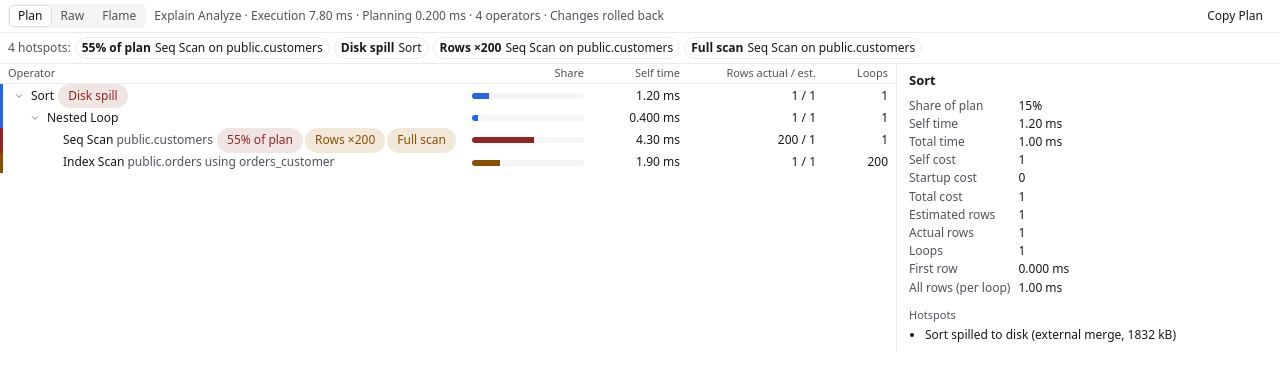
Scenario: collapses an operator with its twisty
Click the button named "Collapse" next to "Nested Loop". click: (35, 118)
box: x1=27 y1=110 x2=43 y2=126
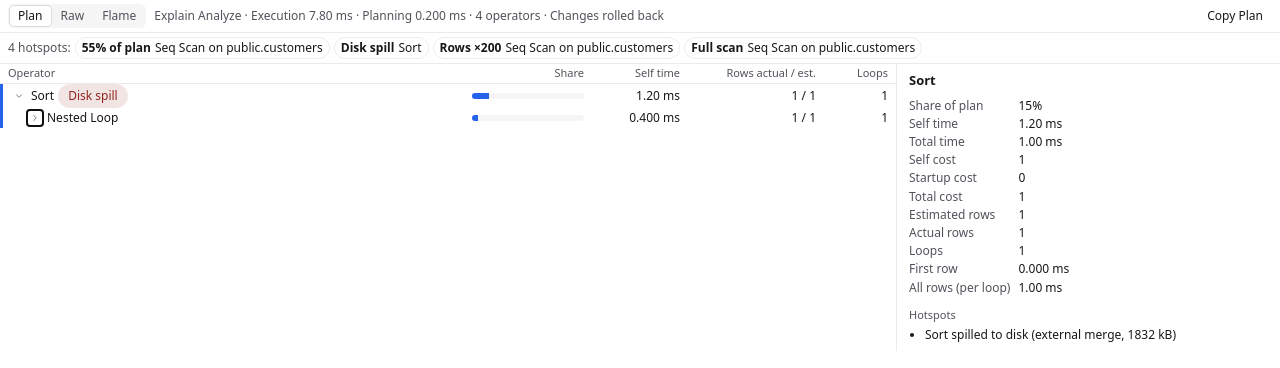
Expected: the button named "Expand" is collapsed, x1=27 y1=110 x2=43 y2=126
